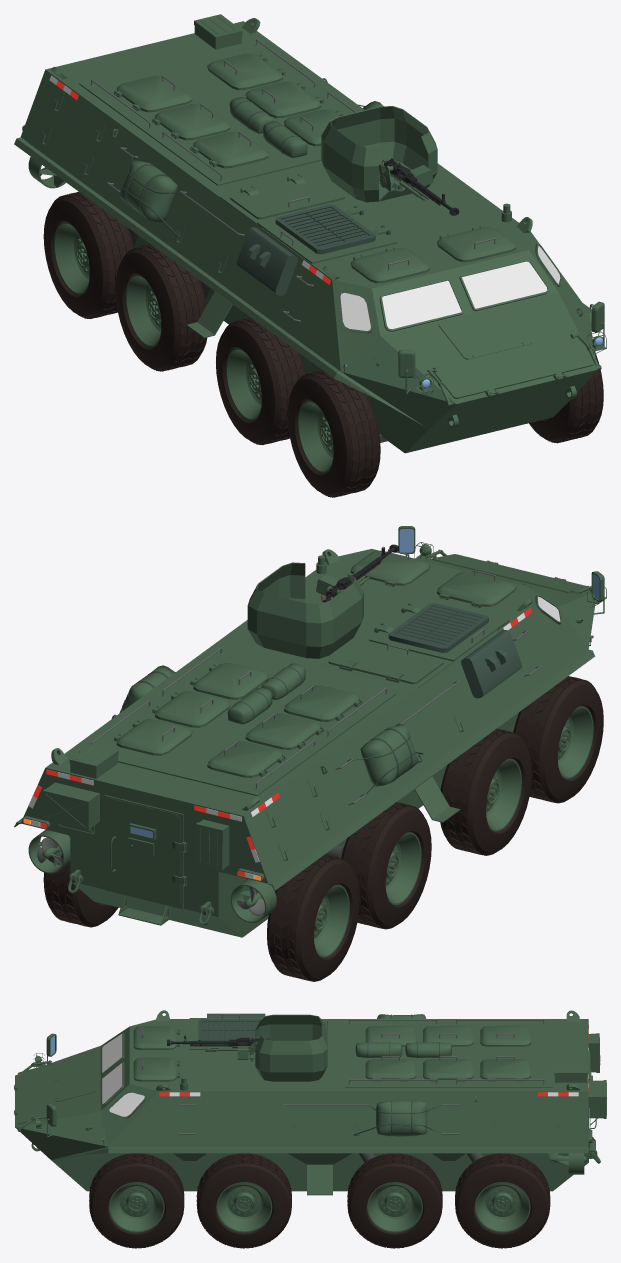
3 views of the same model, one above another, from view 1: azimuth 30°, elevation 25°; view 2: azimuth 150°, elevation 25°; view 3: azimuth 270°, elevation 25° (orthographic). The views are drawn at different scales.
Visible parts, largest first — view 1: Cube, Cube.004, 柱体, 柱体.004, 柱体.003, 柱体.007, 立方体.006, 立方体.001, Cube.001, 立方体.005, 立方体.004, Cube.003 (+17 smaller); view 2: Cube, Cube.004, 柱体.003, 柱体.007, 柱体.004, 柱体, 立方体.006, Cube.008, Cube.001, 立方体.001, Cube.003, 柱体.002 (+22 smaller); view 3: Cube, Cube.004, 柱体.005, 柱体.001, 柱体.002, 柱体.006, Cube.001, 立方体.006, 立方体.005, 立方体.043, 立方体.001, 立方体.004 (+19 smaller).
Part boxes in pixels (x1=…): Cube: x1=20, y1=21, x2=597, y2=453; Cube.004: x1=79, y1=39, x2=502, y2=239; 柱体: x1=287, y1=370, x2=380, y2=497; 柱体.004: x1=115, y1=244, x2=207, y2=371; 柱体.003: x1=43, y1=191, x2=133, y2=318; 柱体.007: x1=216, y1=317, x2=306, y2=445; 立方体.006: x1=321, y1=106, x2=437, y2=202; 立方体.001: x1=236, y1=204, x2=375, y2=295; Cube.001: x1=14, y1=137, x2=591, y2=428; 立方体.005: x1=433, y1=335, x2=593, y2=398; 立方体.004: x1=438, y1=307, x2=531, y2=359; Cube.003: x1=230, y1=175, x2=345, y2=219; Cube: x1=20, y1=549, x2=595, y2=937; Cube.004: x1=79, y1=573, x2=409, y2=795; 柱体.003: x1=267, y1=854, x2=359, y2=981; 柱体.007: x1=440, y1=728, x2=531, y2=855; 柱体.004: x1=341, y1=802, x2=431, y2=929; 柱体: x1=513, y1=676, x2=603, y2=803; 立方体.006: x1=247, y1=562, x2=363, y2=658; Cube.008: x1=107, y1=798, x2=180, y2=906; Cube.001: x1=14, y1=649, x2=595, y2=925; 立方体.001: x1=388, y1=603, x2=521, y2=698; Cube.003: x1=328, y1=640, x2=443, y2=684; 柱体.002: x1=43, y1=853, x2=118, y2=927; Cube: x1=15, y1=1019, x2=589, y2=1191; Cube.004: x1=189, y1=1019, x2=552, y2=1091; 柱体.005: x1=347, y1=1153, x2=442, y2=1248; 柱体.001: x1=89, y1=1153, x2=184, y2=1248; 柱体.002: x1=455, y1=1153, x2=550, y2=1248; 柱体.006: x1=196, y1=1153, x2=291, y2=1248; Cube.001: x1=51, y1=1137, x2=595, y2=1195; 立方体.006: x1=249, y1=1014, x2=327, y2=1081; 立方体.005: x1=14, y1=1063, x2=53, y2=1124; 立方体.043: x1=376, y1=1100, x2=427, y2=1136; 立方体.001: x1=198, y1=1013, x2=265, y2=1040; 立方体.004: x1=55, y1=1066, x2=99, y2=1101.
Size of the model in its own units: 330 by 291 by 827.
